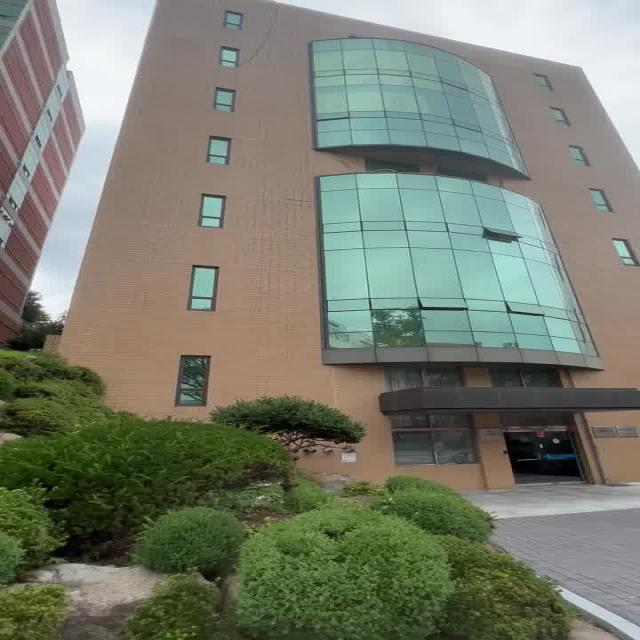building: (119, 10, 640, 405)
